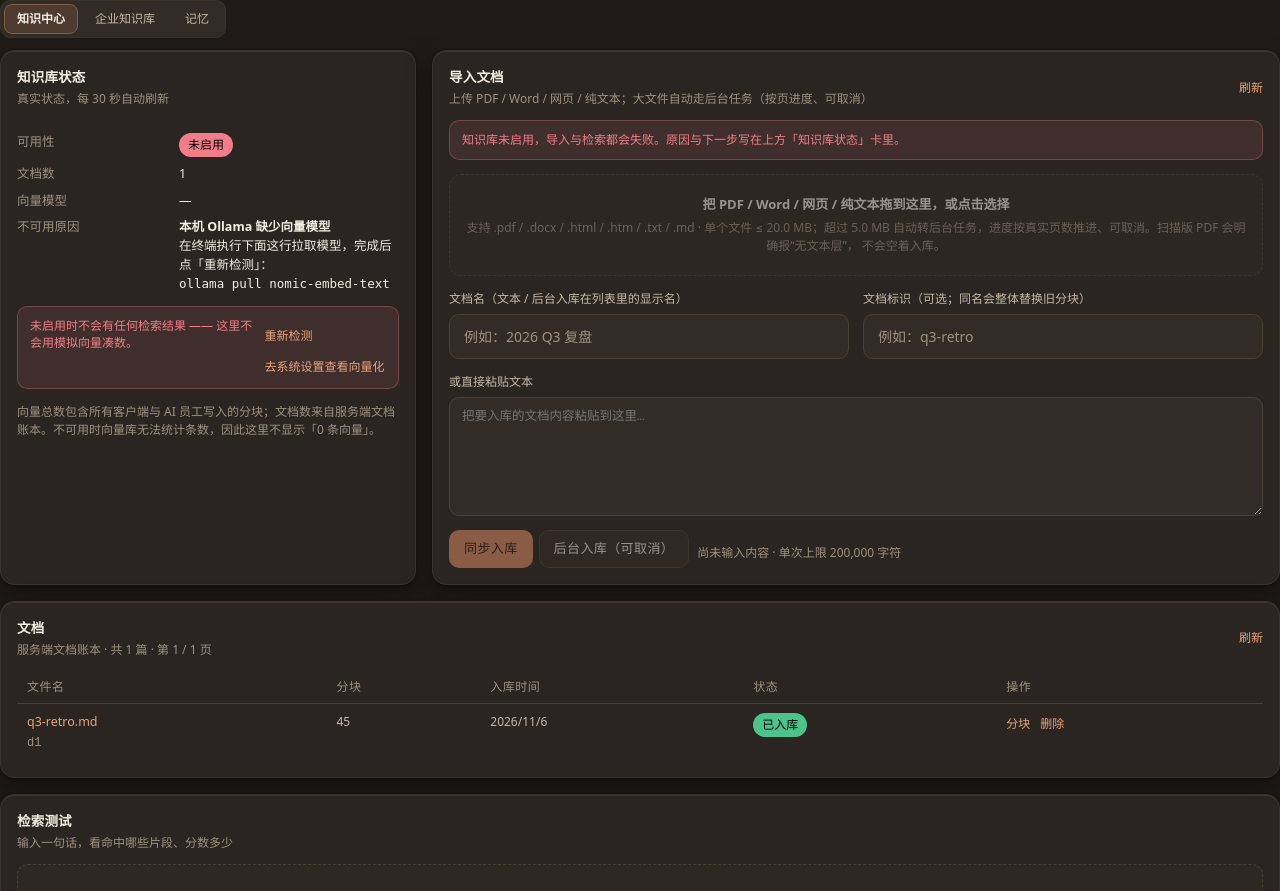
Test case: 知识中心 · 向量化三态 › 「重新检测」真的重新请求状态并更新界面
The width and height of the screenshot is (1280, 891).
expect the text "本机 Ollama 缺少向量模型" is shown: met, box [179,218,330,235]
Click the button "重新检测": (288, 336) [264,325,312,346]
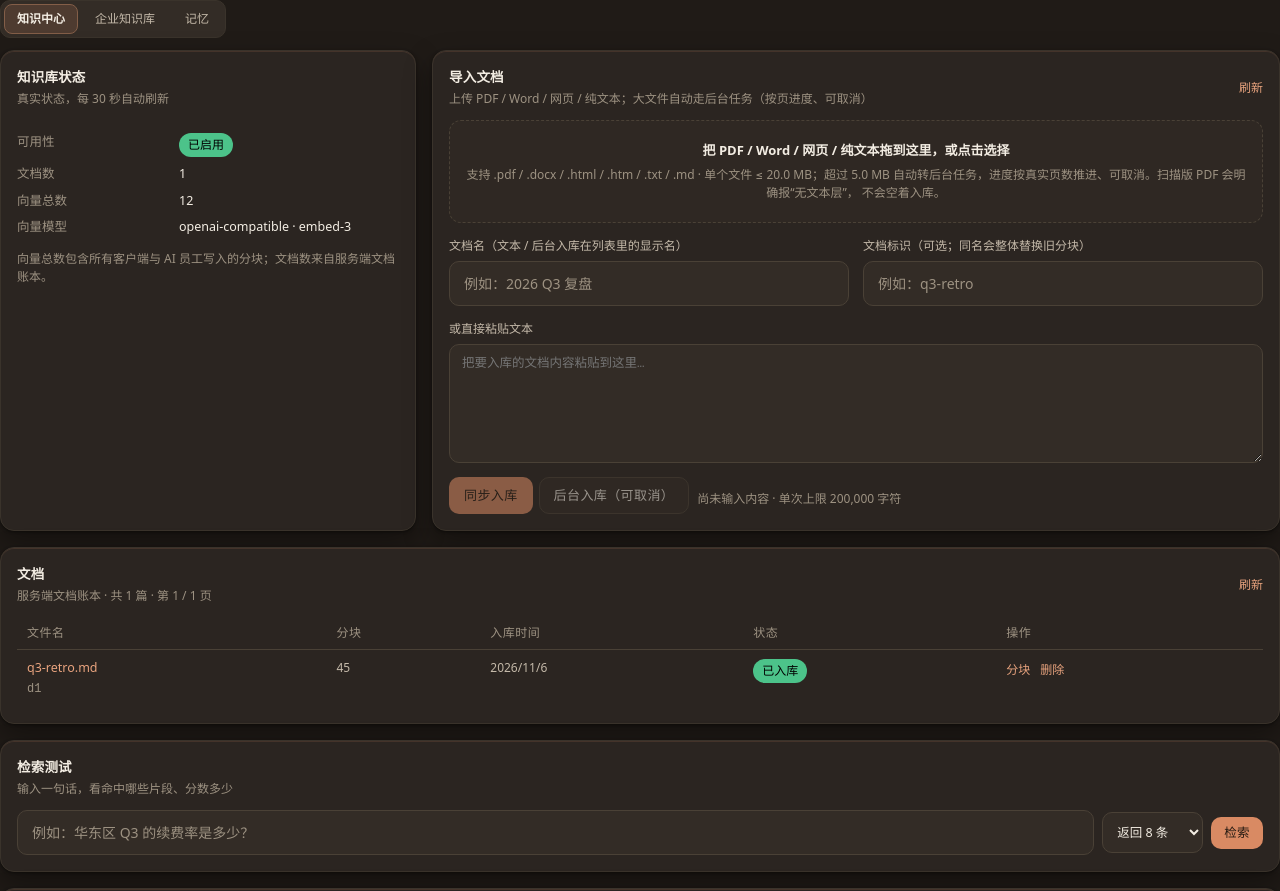
expect the text "不可用原因" is gone: met
expect the text "已启用" is shown: met, box [179,133,233,157]
